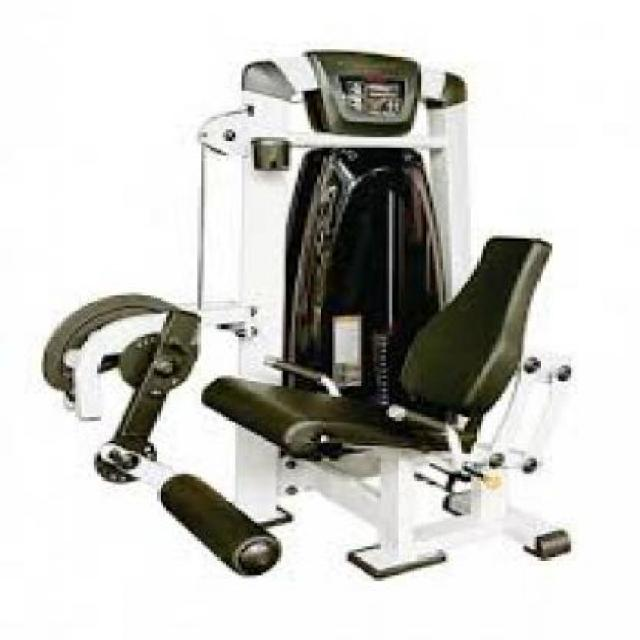leg extension: (40, 37, 618, 608)
